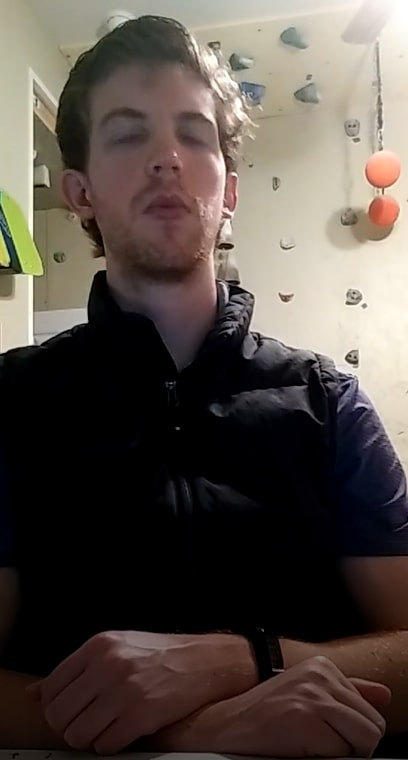Sleeping: (94, 105, 220, 162)
